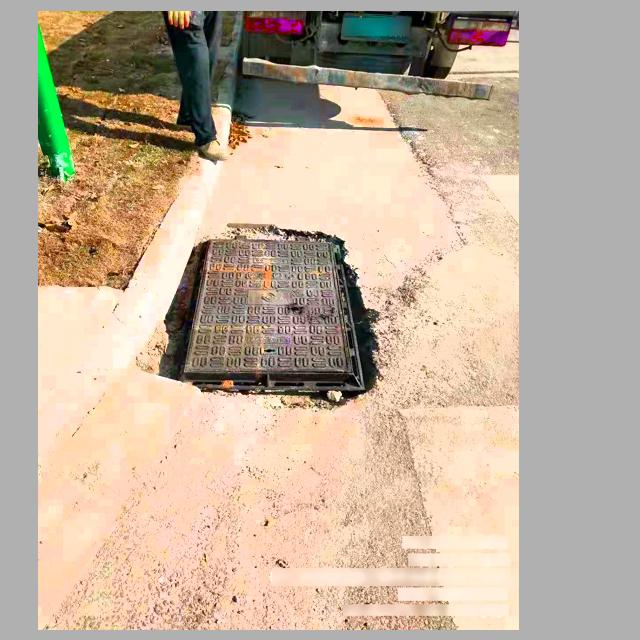circle: (156, 230, 380, 403)
